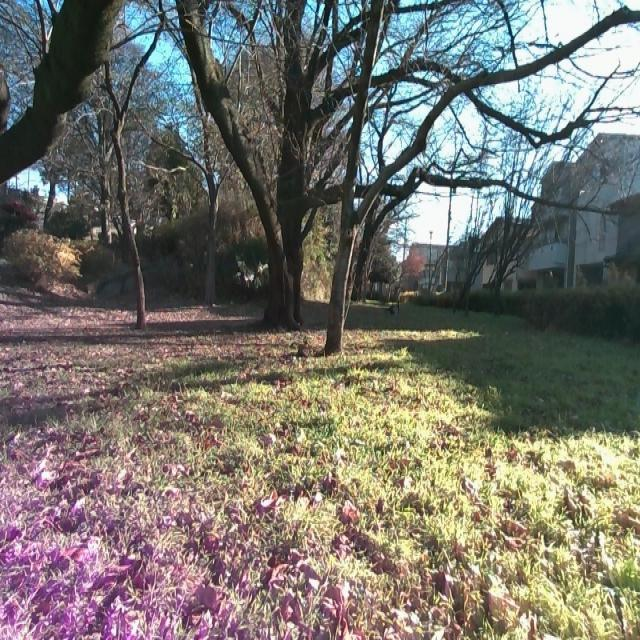artifact: (411, 126, 638, 299)
bush: (411, 258, 640, 350), (0, 223, 92, 304)
tree: (306, 0, 640, 364), (181, 0, 546, 333), (0, 0, 145, 191), (95, 0, 159, 323)
